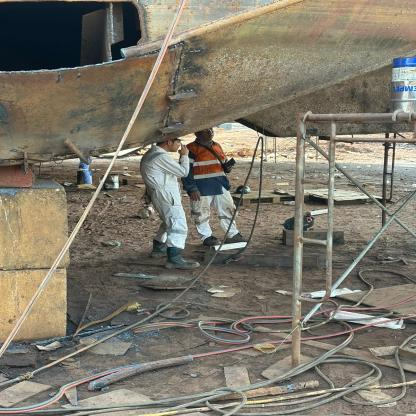bota: (164, 247, 200, 269), (150, 239, 169, 258), (226, 232, 252, 244), (203, 236, 222, 246)
